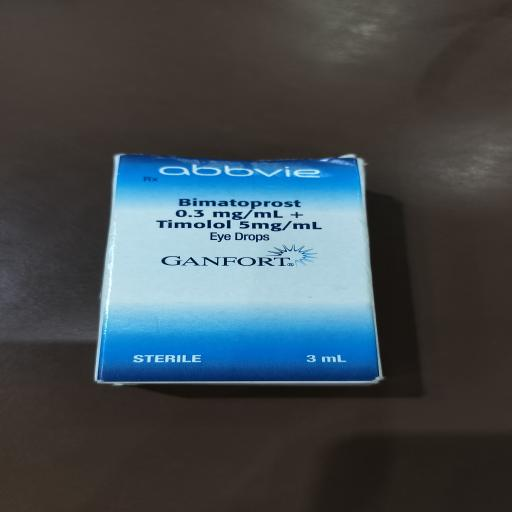eye-drops: (133, 189, 342, 274), (126, 155, 338, 188)
medicine: (109, 153, 384, 391)
